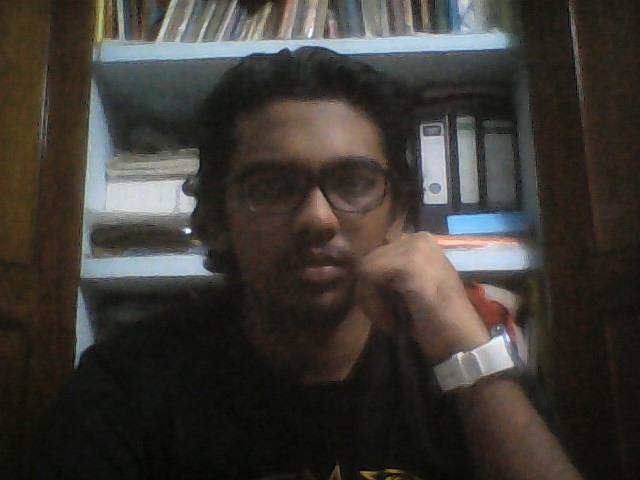person: (47, 41, 565, 477)
smartwatch: (414, 317, 544, 404)
